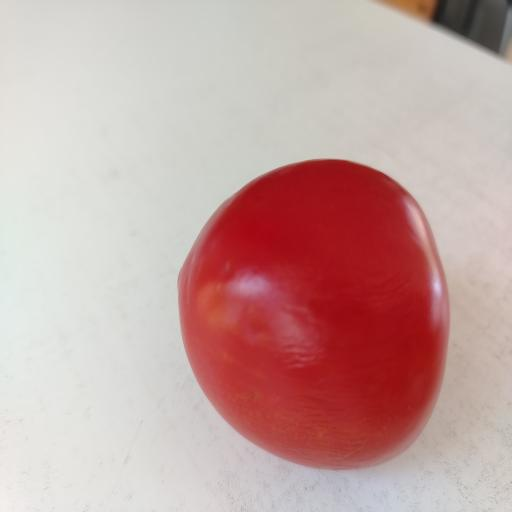overipe: (178, 160, 449, 469)
